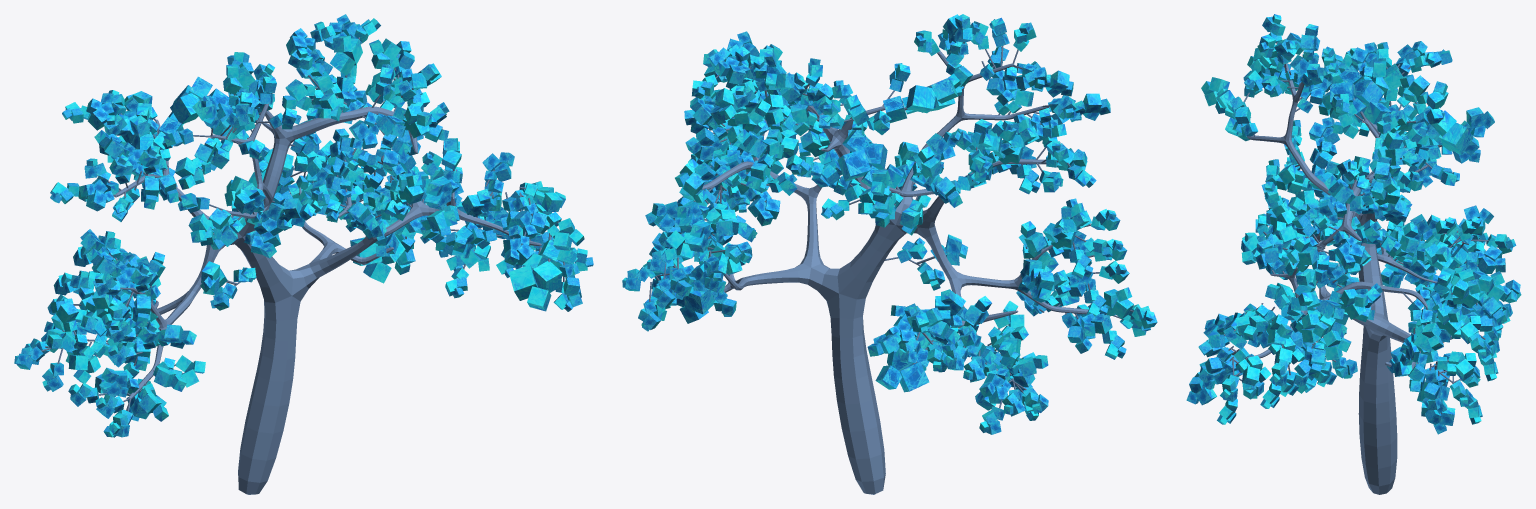
File: BlueBoom.fbx
3 renders of one model, left to right at view 1: azimuth 30°, elevation 25°; view 2: azimuth 150°, elevation 25°; view 3: azimuth 270°, elevation 25°, orthographic. The views are drawn at different scales.
Visible parts, largest first — view 1: pCube190, normalTree; view 2: pCube190, normalTree; view 3: pCube190, normalTree.
Boxes of the visible parts, x1,y1,x2,y2 form: pCube190: (14,14,593,437); normalTree: (106,104,541,494); pCube190: (622,14,1157,434); normalTree: (683,51,1106,494); pCube190: (1186,14,1521,434); normalTree: (1245,63,1452,494).
Bounding box in the file's own units: 7.04 × 6.37 × 4.38.
3 materials, 1 textured.
